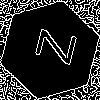Z: (25, 25, 77, 66)
